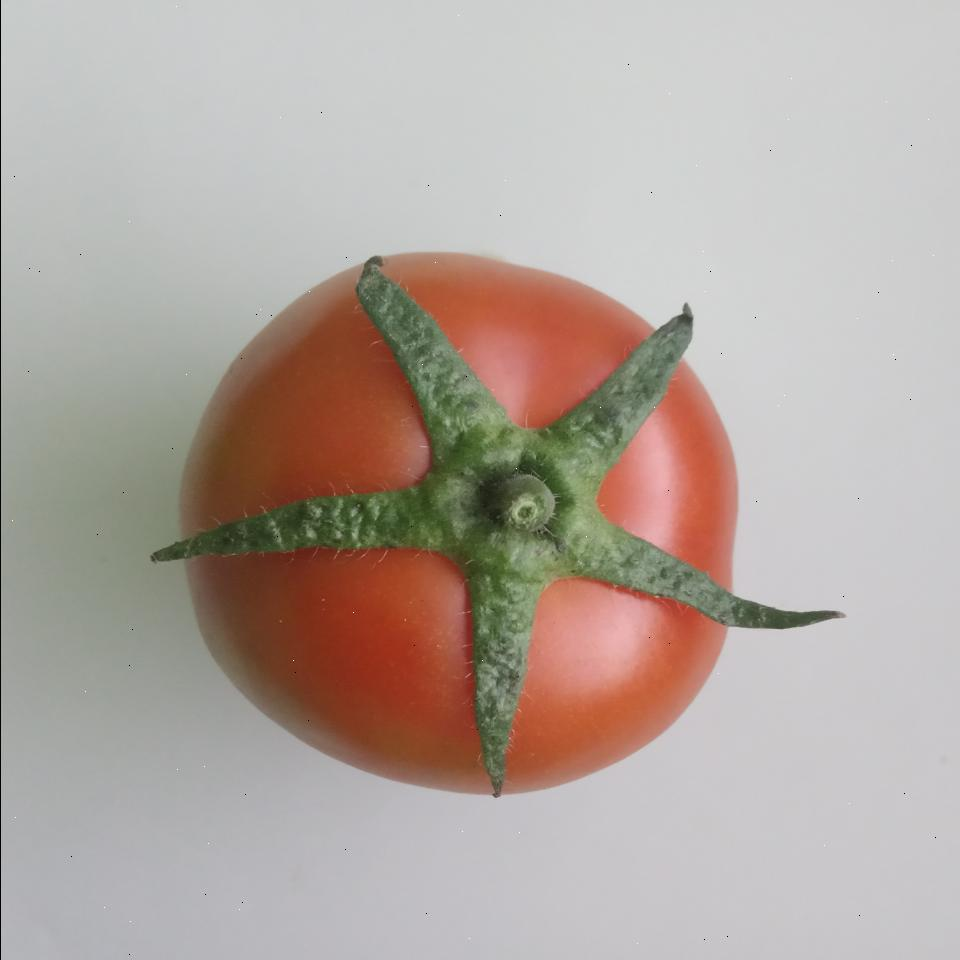Healthy: (164, 236, 754, 814)
